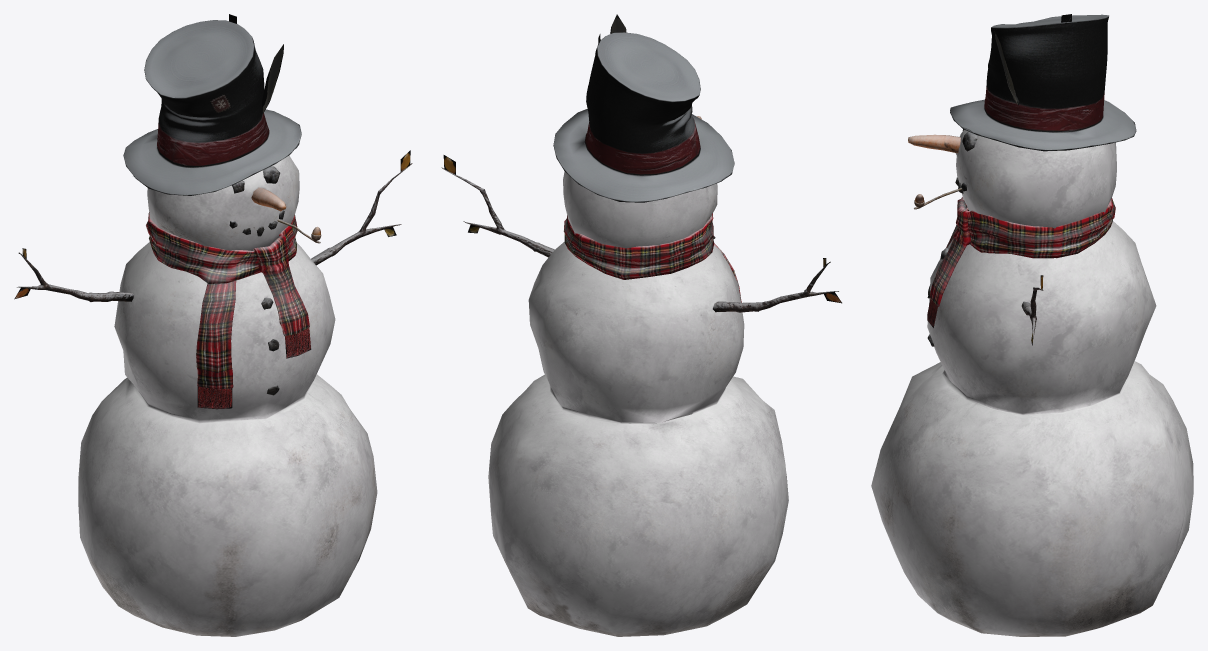
The model's file is snowman.obj.
3 renders of one model, left to right at view 1: azimuth 30°, elevation 25°; view 2: azimuth 150°, elevation 25°; view 3: azimuth 270°, elevation 25°, orthographic. The views are drawn at different scales.
Visible parts, largest first — view 1: MTL_Snowman_Inst1; view 2: MTL_Snowman_Inst1; view 3: MTL_Snowman_Inst1.
Boxes of the visible parts, x1=… form: MTL_Snowman_Inst1: x1=14, y1=14, x2=412, y2=636; MTL_Snowman_Inst1: x1=441, y1=14, x2=841, y2=636; MTL_Snowman_Inst1: x1=871, y1=14, x2=1193, y2=636.
Bounding box in the file's own units: 0.1241 × 0.17 × 0.0827.
Materials: 1 (1 with a texture image).
